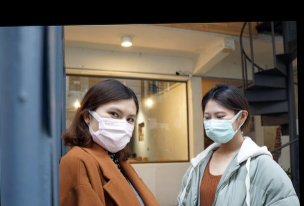with_mask: (90, 105, 136, 153), (201, 109, 238, 144)
